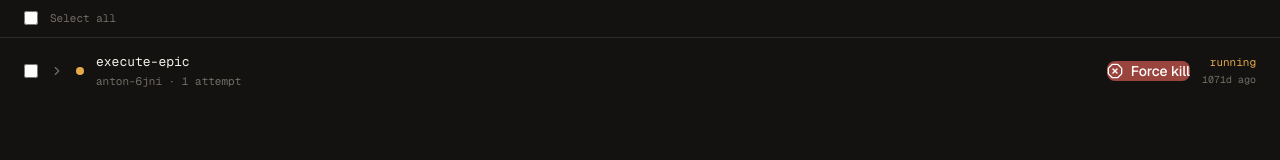
it: JobList kill affordance › shows the terminal cancelled state and drops the kill action once the kill succeeds
The image size is (1280, 160).
Expected: the text "running" is shown, [1210,54,1256,70]
Step 1. Click the button "Force kill" → click(1148, 70), box [1107,60,1190,80]
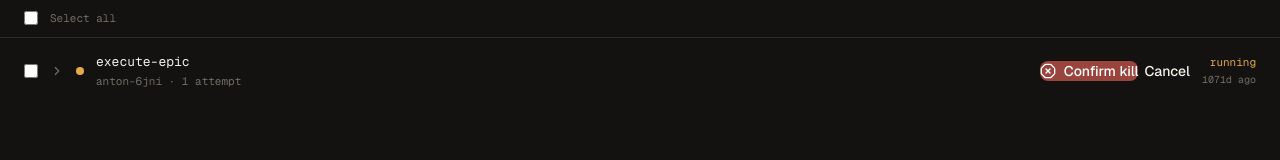
Step 2. Click the button "Confirm kill" → click(1089, 70), box [1040,60,1138,80]
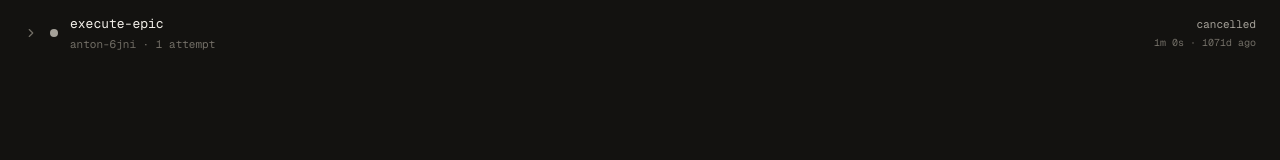
Expected: the button "Force kill" is not shown
Result: the text "cancelled" is shown at [1197,16,1256,33]
Result: the text "running" is gone
